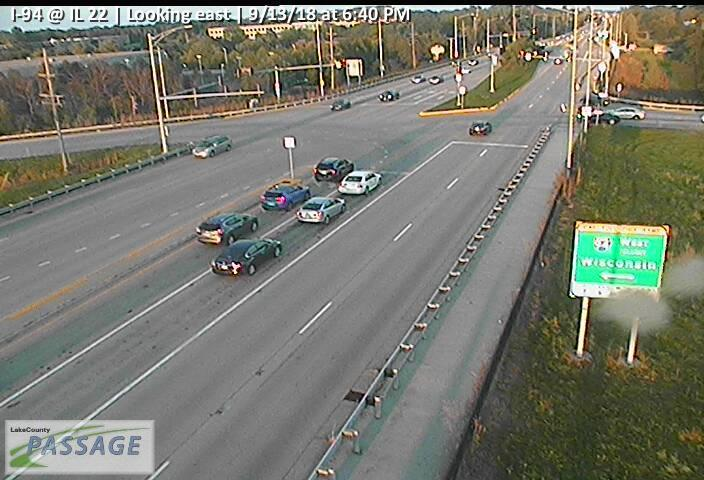Sedan: (211, 238, 282, 277), (196, 212, 258, 244), (260, 181, 309, 212), (297, 195, 346, 224), (338, 170, 381, 196), (315, 157, 353, 181), (194, 136, 231, 159), (605, 104, 644, 118), (468, 121, 491, 136), (589, 113, 620, 124), (329, 98, 350, 111), (377, 90, 399, 102)
